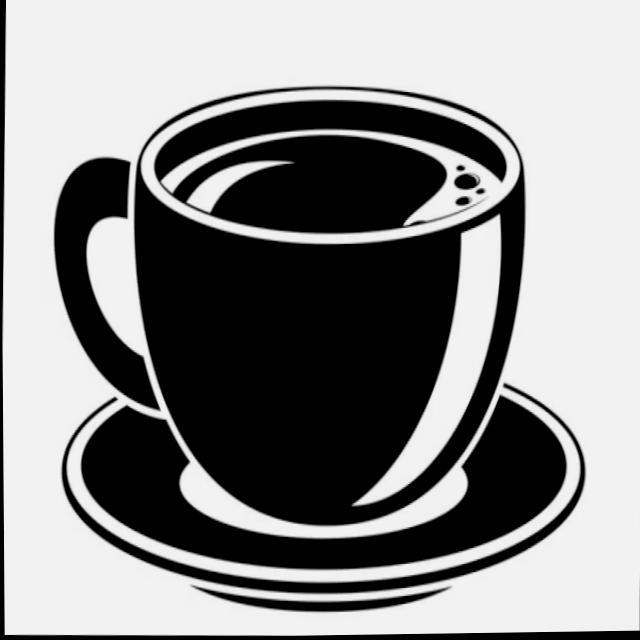cup: (38, 65, 600, 634)
